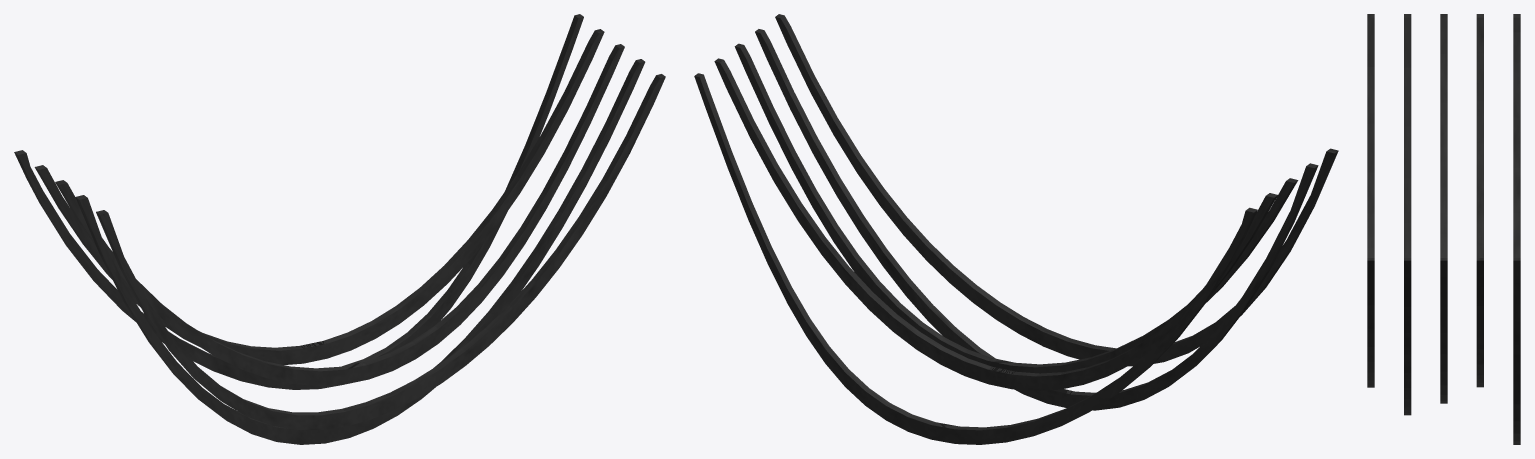
The model's file is cable3.obj.
3 renders of one model, left to right at view 1: azimuth 30°, elevation 25°; view 2: azimuth 150°, elevation 25°; view 3: azimuth 270°, elevation 25°, orthographic. The views are drawn at different scales.
Parts seen in each view (by area): view 1: cables3; view 2: cables3; view 3: cables3.
Boxes of the visible parts, <box> form: cables3: <box>14,14,665,444</box>; cables3: <box>694,14,1338,444</box>; cables3: <box>1367,14,1520,444</box>.
Bounding box in the file's own units: 4 × 2.09 × 1.05.
